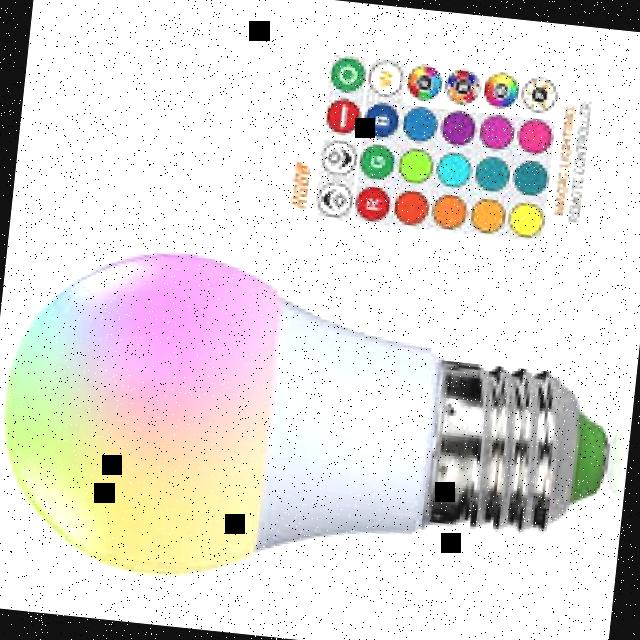light_bulb: (0, 227, 630, 622)
